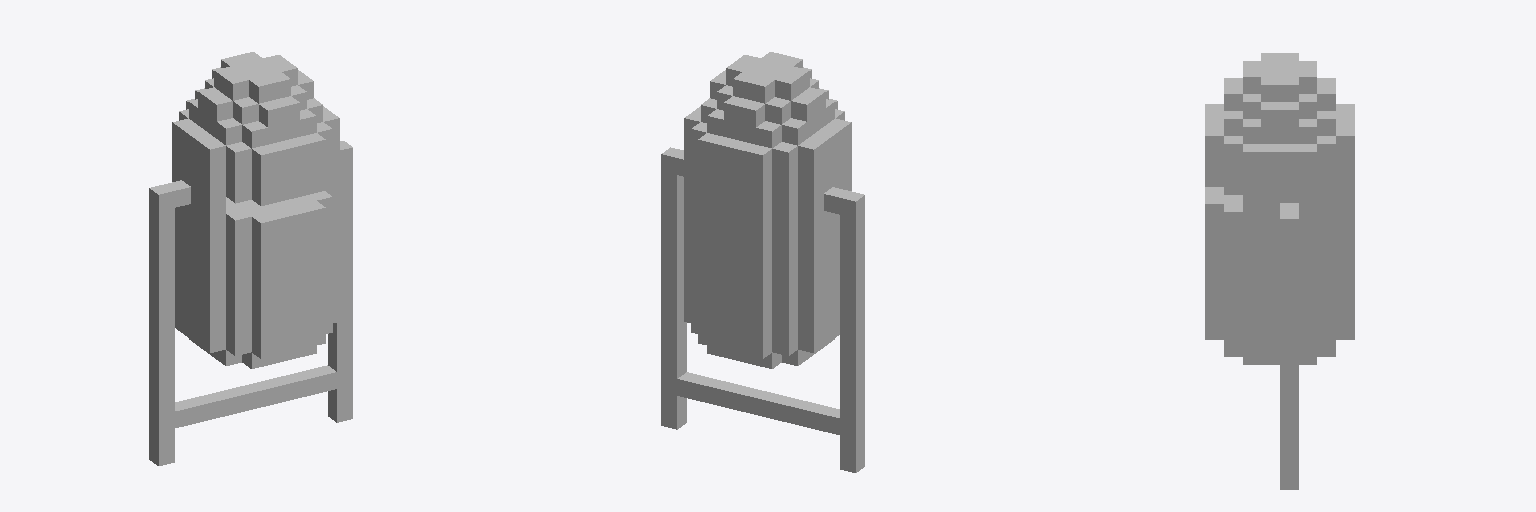
Rendered from Basurero.obj.
The picture shows the model from 3 angles: view 1: azimuth 30°, elevation 25°; view 2: azimuth 150°, elevation 25°; view 3: azimuth 270°, elevation 25°; orthographic projection.
Parts seen in each view (by area): view 1: Content; view 2: Content; view 3: Content.
Boxes of the visible parts, x1=… form: Content: x1=149, y1=52, x2=352, y2=465; Content: x1=661, y1=52, x2=864, y2=472; Content: x1=1205, y1=53, x2=1354, y2=489.
Size of the model in its own units: 0.5359 by 0.9825 by 0.3573.